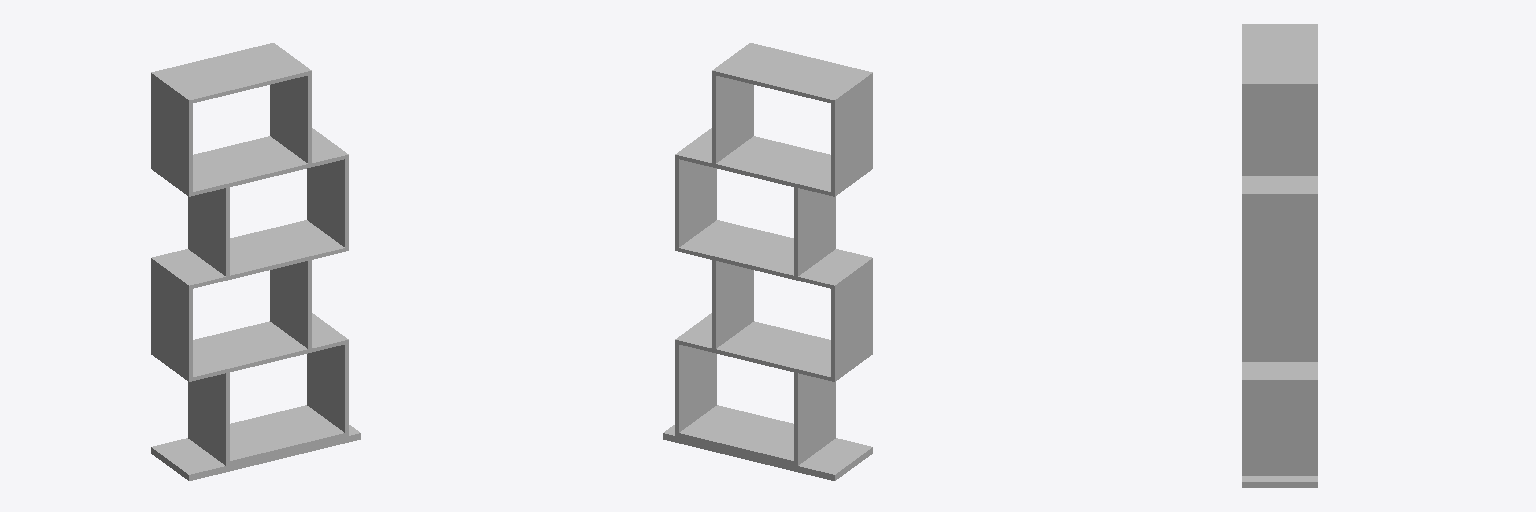
The model's file is estante_2.obj.
3 renders of one model, left to right at view 1: azimuth 30°, elevation 25°; view 2: azimuth 150°, elevation 25°; view 3: azimuth 270°, elevation 25°, orthographic.
Visible parts, largest first — view 1: Cube; view 2: Cube; view 3: Cube.
Part boxes in pixels (bbox=[...]): Cube: bbox=[151, 43, 360, 480]; Cube: bbox=[663, 43, 872, 480]; Cube: bbox=[1242, 24, 1317, 487].
Size of the model in its own units: 2.8 by 5.93 by 1.08.